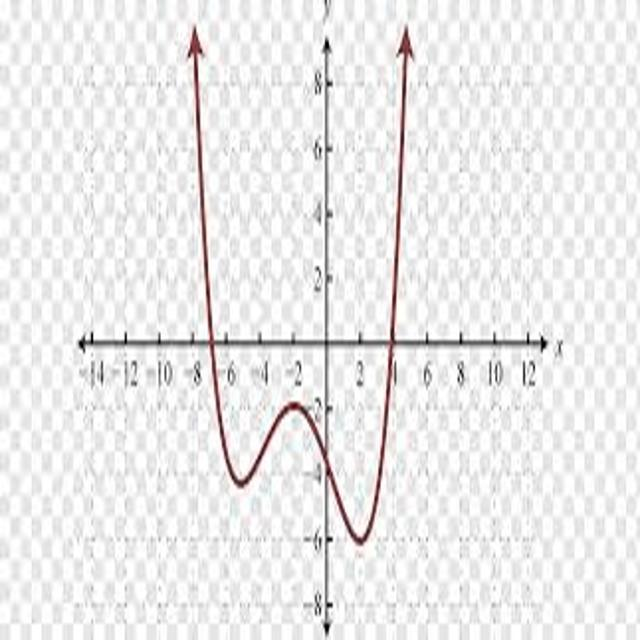axis: (74, 331, 553, 352), (322, 25, 332, 640)
line: (188, 28, 411, 549)
